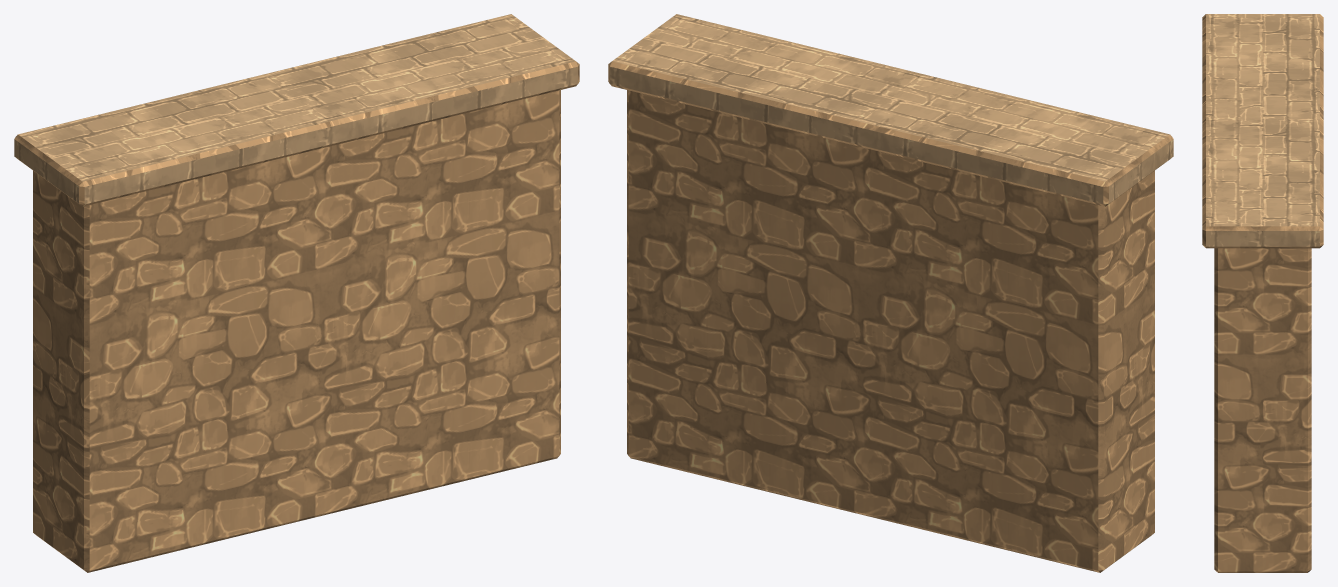
Rendered from wall.gltf.
3 views of the same model, side by side, from view 1: azimuth 30°, elevation 25°; view 2: azimuth 150°, elevation 25°; view 3: azimuth 270°, elevation 25° (orthographic). The views are drawn at different scales.
Visible parts, largest first — view 1: wall; view 2: wall; view 3: wall.
Part boxes in pixels (left/top/right/bottom): wall: left=14, top=14, right=579, bottom=572; wall: left=608, top=14, right=1173, bottom=572; wall: left=1202, top=14, right=1323, bottom=572.
Bounding box in the file's own units: 4.2 × 3.2 × 1.
2 materials, 2 textured.
